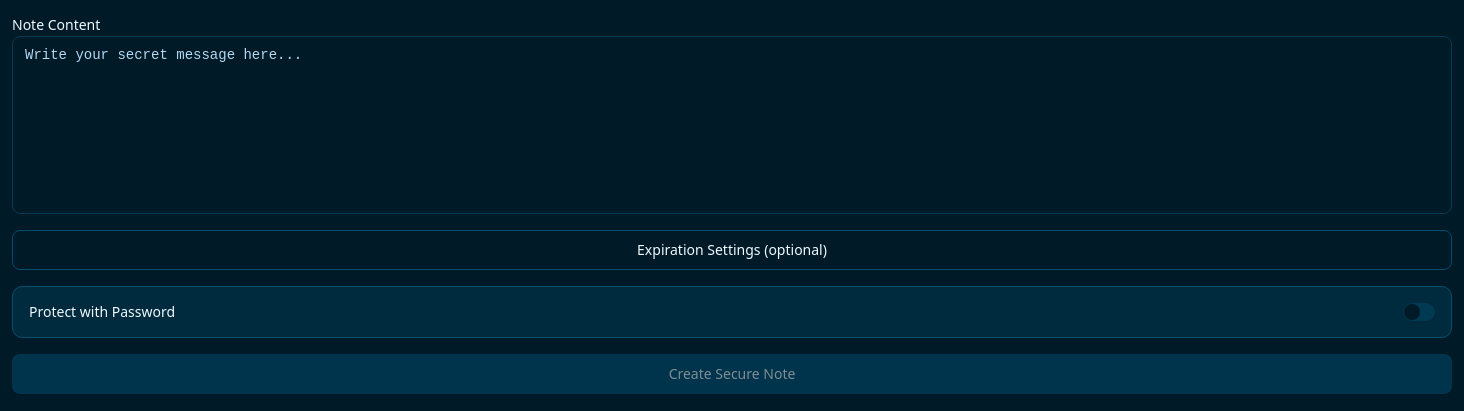
CreateNoteForm › creates a note and shows result panel
Type "secret message" into the text box labelled "Note Content" at (732,125), box [12,36,1452,214]
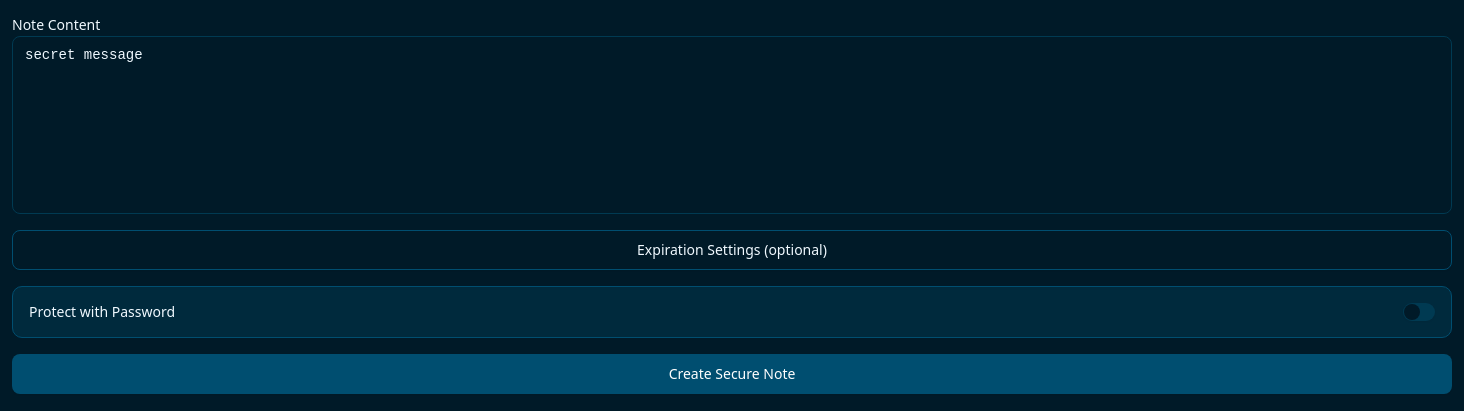
Click the button "Create Secure Note" at (732,374), box [12,354,1452,394]
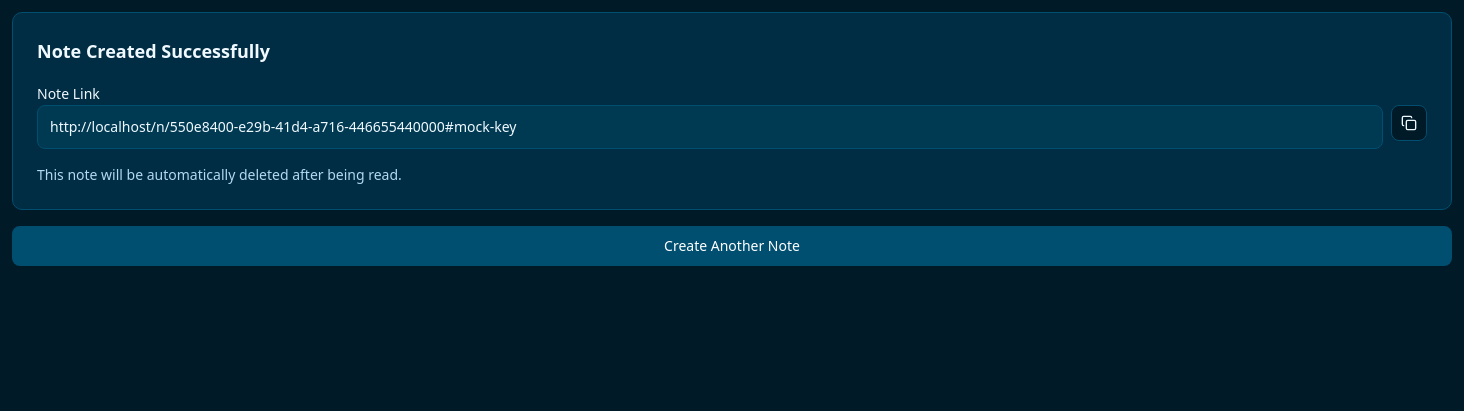
expect the heading "Note Created Successfully" is shown: met, box [37,39,270,63]
